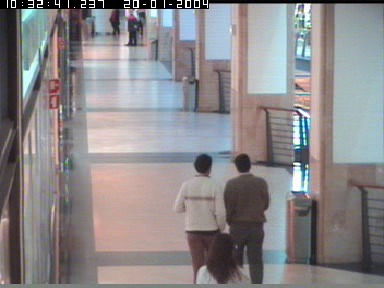person: (172, 152, 225, 283), (222, 152, 270, 283), (194, 232, 252, 283), (125, 10, 139, 46), (110, 10, 120, 37)
